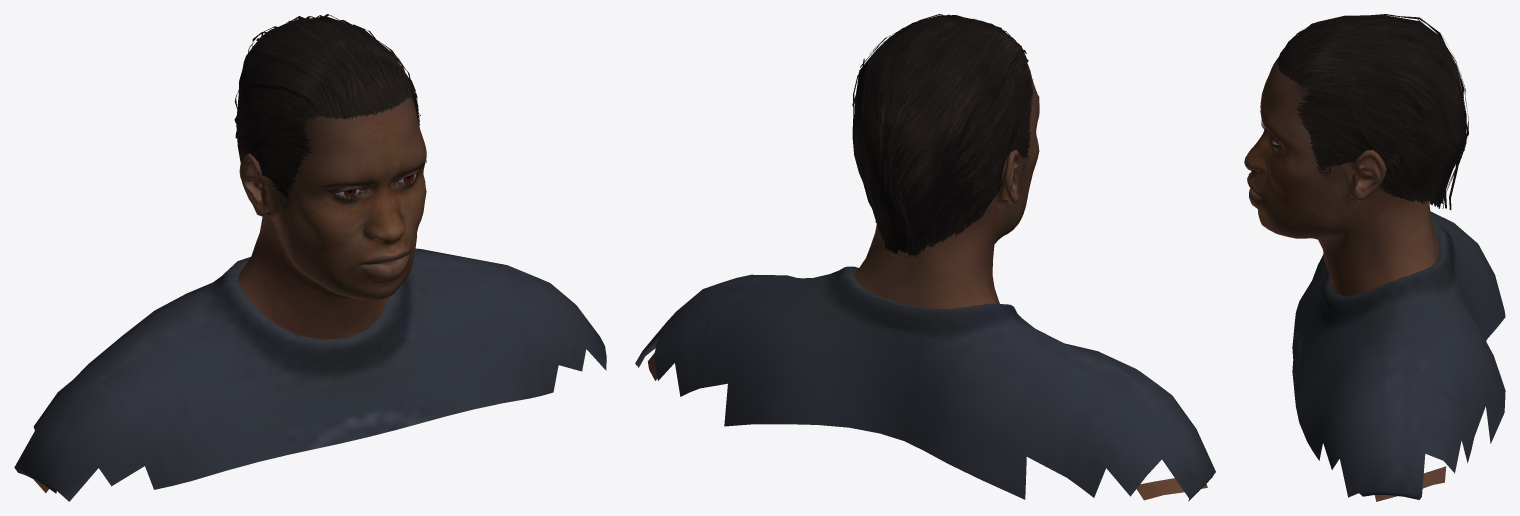
The model's file is kofi.glb.
3 renders of one model, left to right at view 1: azimuth 30°, elevation 25°; view 2: azimuth 150°, elevation 25°; view 3: azimuth 270°, elevation 25°, orthographic. The views are drawn at different scales.
Parts seen in each view (by area): view 1: Human.male_casualsuit04, Human, Human.short04; view 2: Human.male_casualsuit04, Human.short04, Human; view 3: Human.male_casualsuit04, Human.short04, Human.
Part boxes in pixels (x1,y1,x2,y2): Human.male_casualsuit04: [14, 248, 606, 501]; Human: [34, 93, 426, 492]; Human.short04: [234, 14, 420, 212]; Human.male_casualsuit04: [635, 266, 1215, 501]; Human.short04: [852, 14, 1033, 258]; Human: [647, 63, 1207, 500]; Human.male_casualsuit04: [1292, 211, 1505, 499]; Human.short04: [1277, 14, 1468, 209]; Human: [1244, 57, 1446, 501].
Size of the model in its own units: 0.6163 by 0.4103 by 0.2716.
8 materials, 8 textured.
